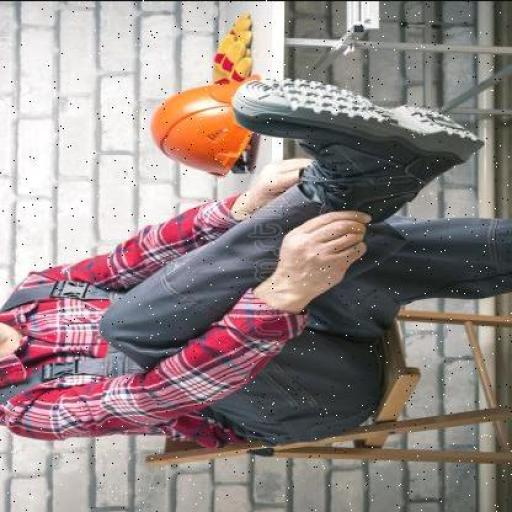safety_shoe: (236, 75, 480, 227)
